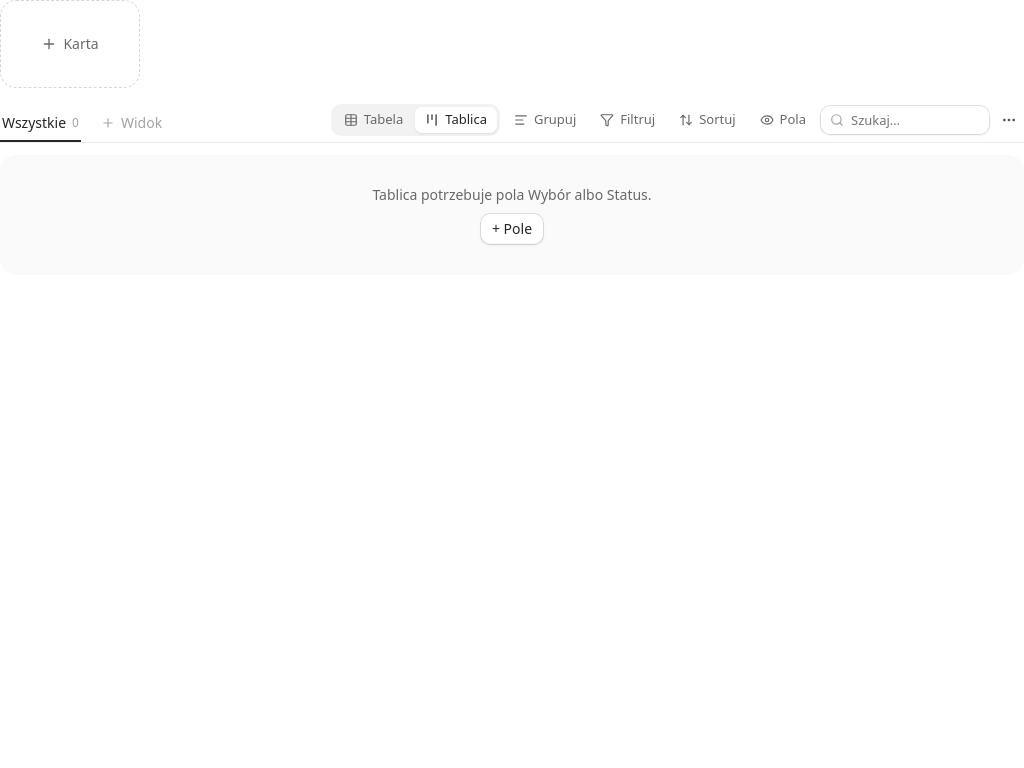
Test: Tablica (kanban) › bez pola Wyboru i Statusu: komunikat i przycisk dodania pola
The width and height of the screenshot is (1024, 768).
expect the text "Tablica potrzebuje pola Wybór albo Status." is shown: met, box [372, 185, 652, 205]
Click the button "+ Pole".
click(512, 229)  # box [480, 213, 544, 245]
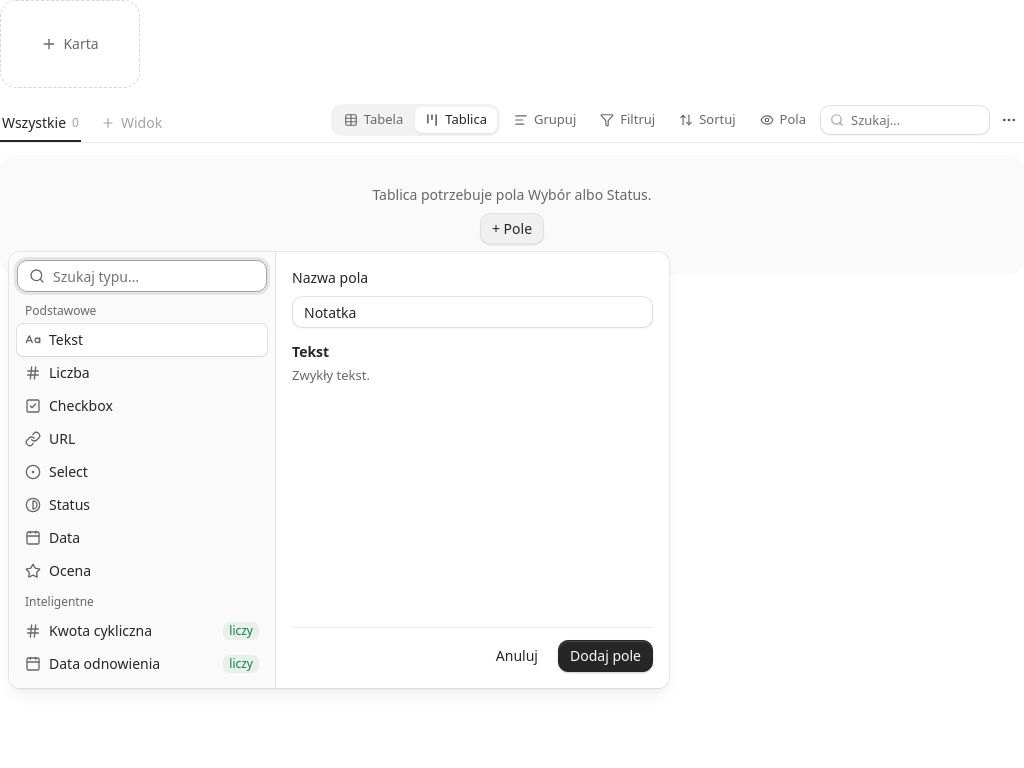
expect the field labelled "Szukaj typu" is shown: met, box [53, 261, 255, 291]
